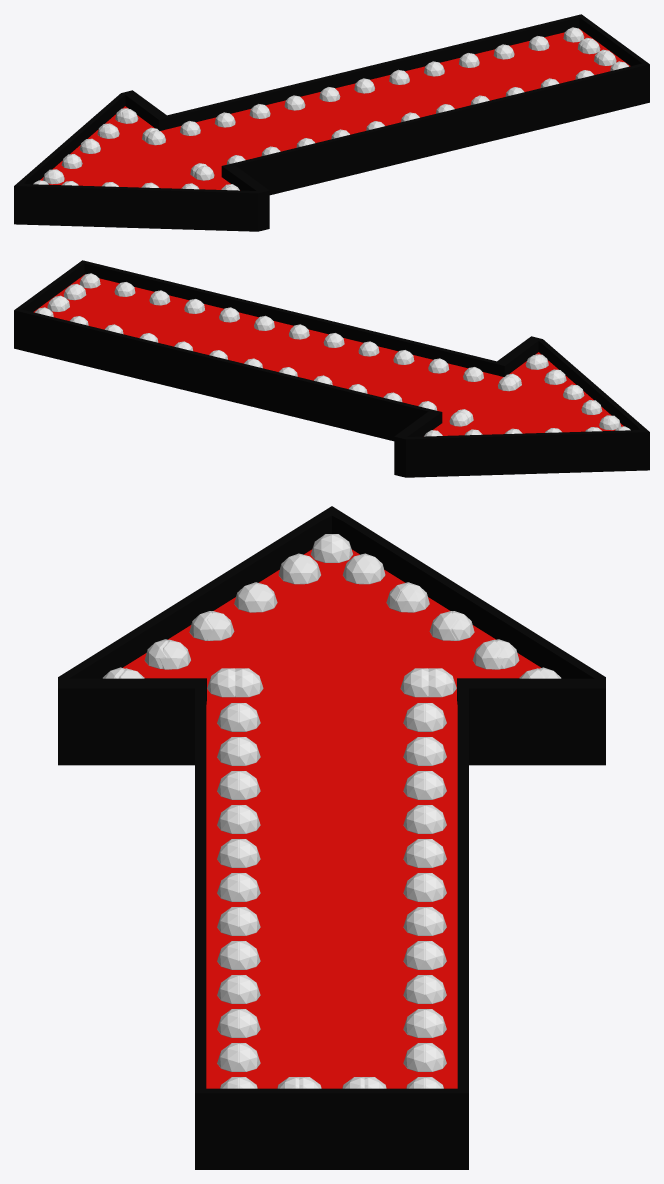
The model's file is sign.fbx.
The picture shows the model from 3 angles, top to bottom: view 1: azimuth 30°, elevation 25°; view 2: azimuth 150°, elevation 25°; view 3: azimuth 270°, elevation 25°; orthographic projection. The views are drawn at different scales.
Visible parts, largest first — view 1: sign; view 2: sign; view 3: sign.
Boxes of the visible parts, x1,y1,x2,y2 form: sign: (14,14,649,231); sign: (14,260,649,477); sign: (58,506,605,1169).
Size of the model in its own units: 1016 by 61.79 by 401.
